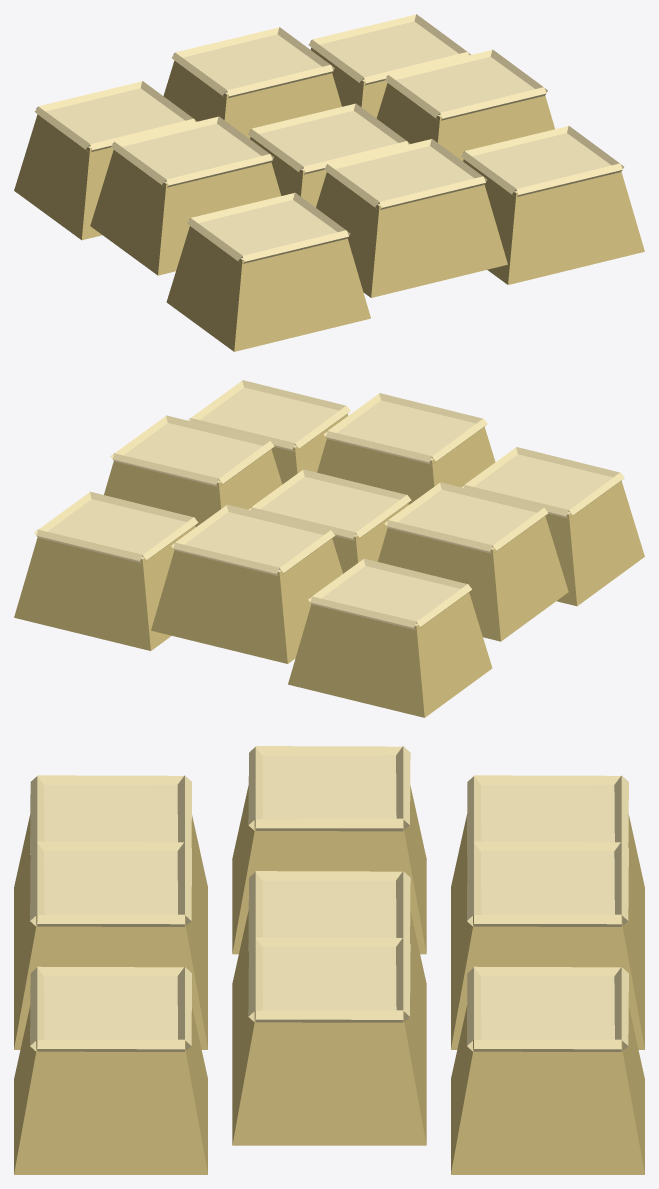
File: gold.glb
The picture shows the model from 3 angles, top to bottom: view 1: azimuth 30°, elevation 25°; view 2: azimuth 150°, elevation 25°; view 3: azimuth 270°, elevation 25°; orthographic projection. The views are drawn at different scales.
Parts seen in each view (by area): view 1: gold; view 2: gold; view 3: gold.
Part boxes in pixels (box(x1,y1,x2,y2)): gold: box(14, 14, 644, 351); gold: box(14, 380, 644, 717); gold: box(14, 746, 644, 1174).
Bounding box in the file's own units: 0.84 × 0.209 × 0.78.
